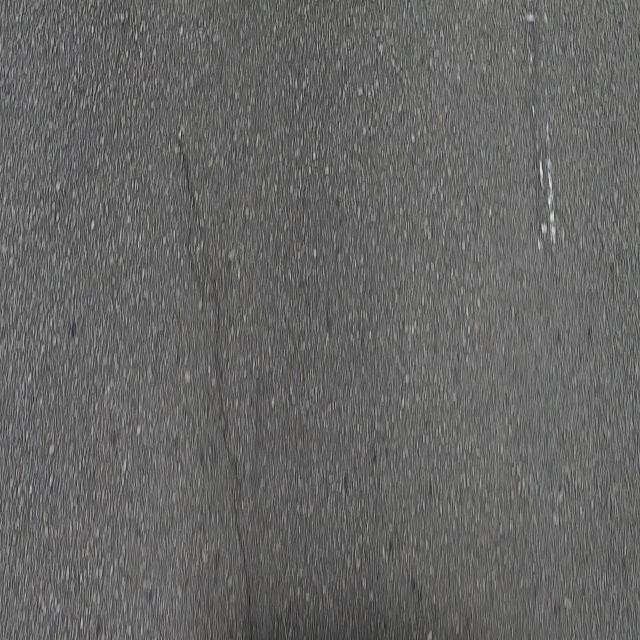Retak-Memanjang: (172, 129, 259, 639)
